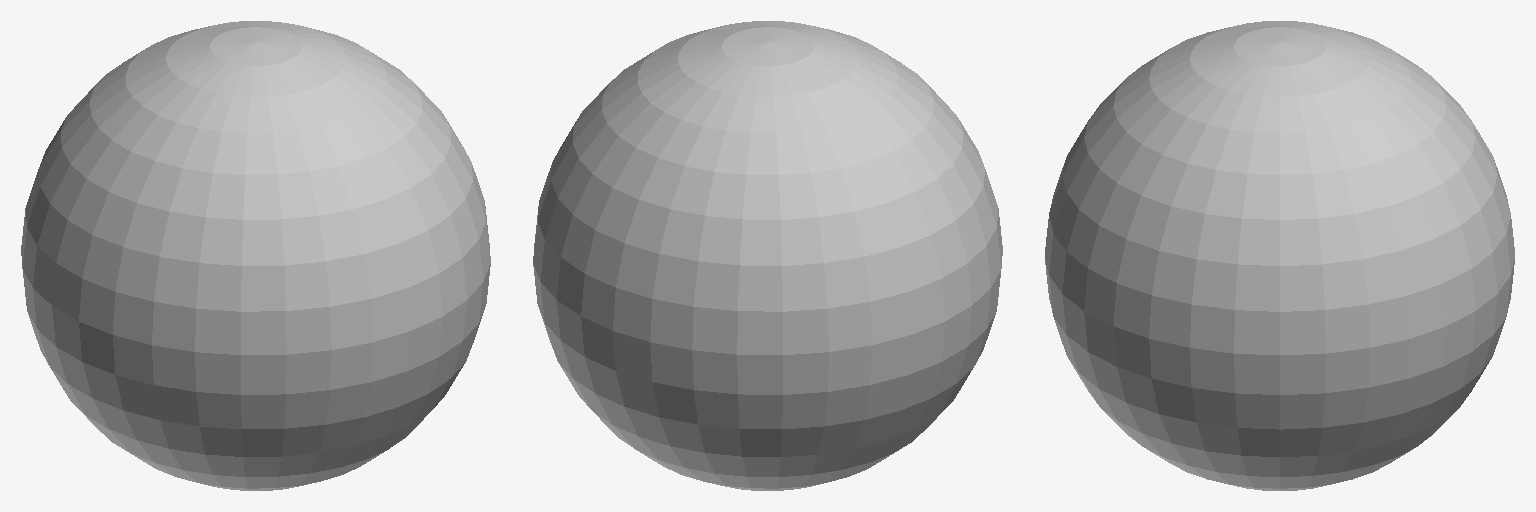
The model's file is pilot_head.obj.
3 views of the same model, side by side, from view 1: azimuth 30°, elevation 25°; view 2: azimuth 150°, elevation 25°; view 3: azimuth 270°, elevation 25° (orthographic).
Parts seen in each view (by area): view 1: Sphere; view 2: Sphere; view 3: Sphere.
Part boxes in pixels (left/top/right/bottom): Sphere: left=21, top=21, right=490, bottom=490; Sphere: left=533, top=21, right=1002, bottom=490; Sphere: left=1045, top=21, right=1514, bottom=490.
Size of the model in its own units: 0.5883 by 0.5883 by 0.5883.